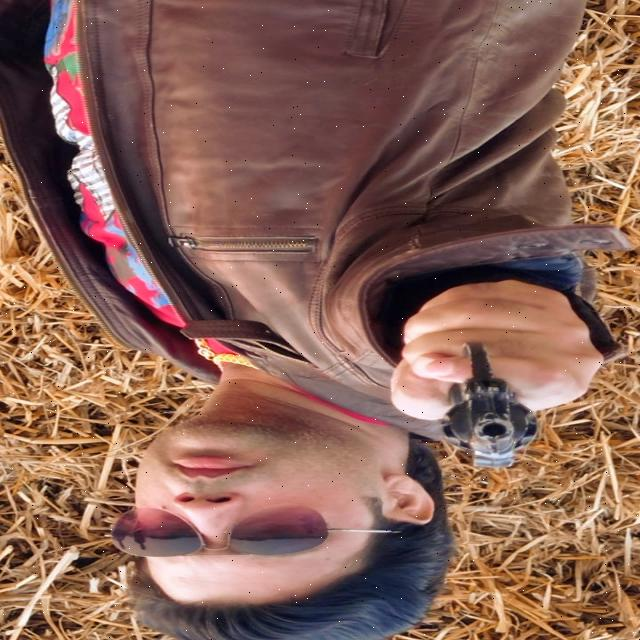gun: (422, 280, 597, 477)
